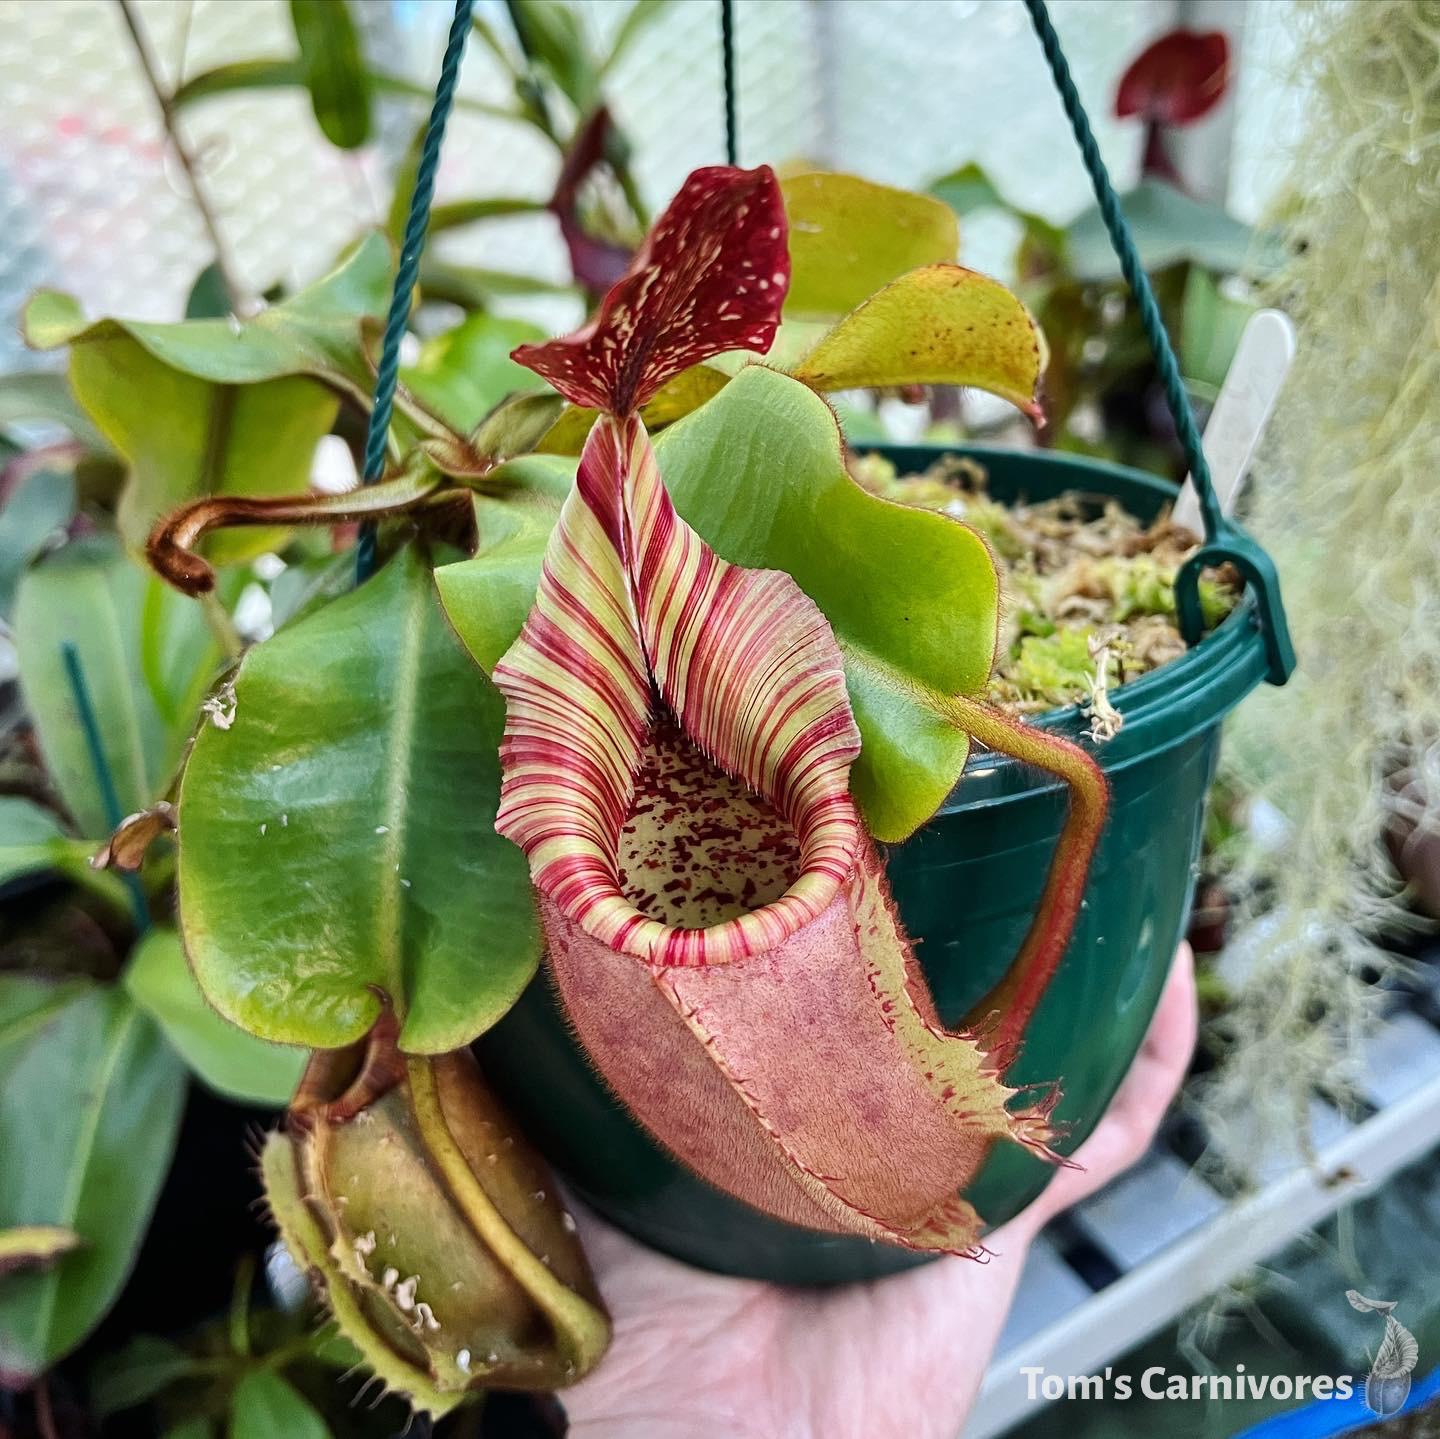veitchii: (391, 80, 1094, 1269)
